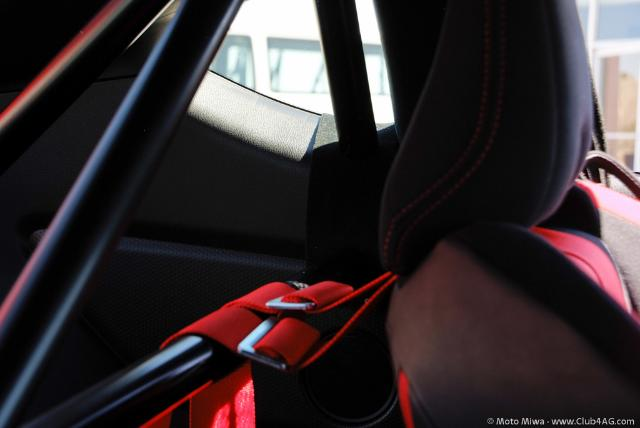Seatbelt: (140, 268, 396, 428), (312, 0, 384, 188)
